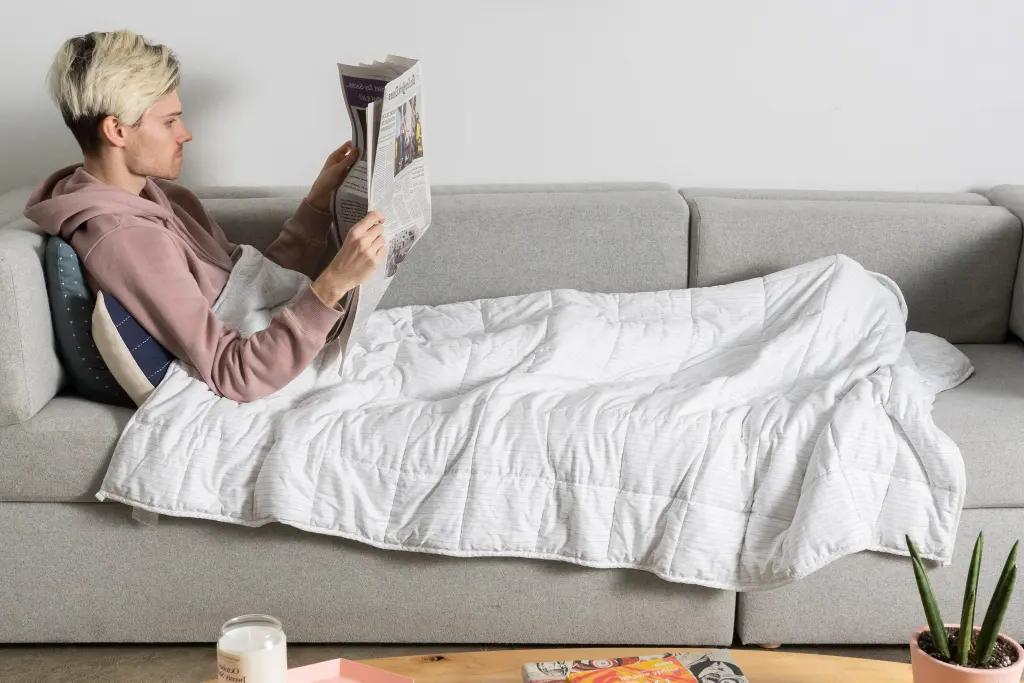blanket: (93, 245, 979, 592)
sweater: (21, 165, 348, 405)
